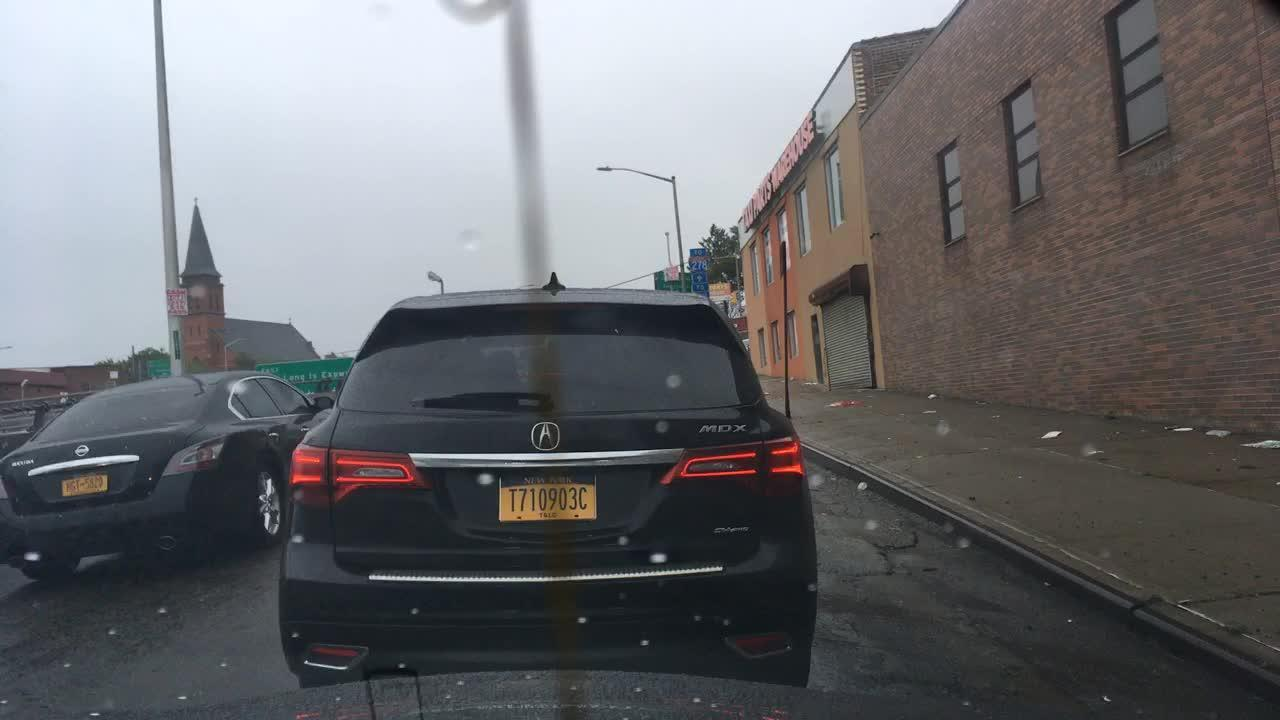Nissan: (70, 439, 90, 461)
acura: (529, 416, 567, 455)
